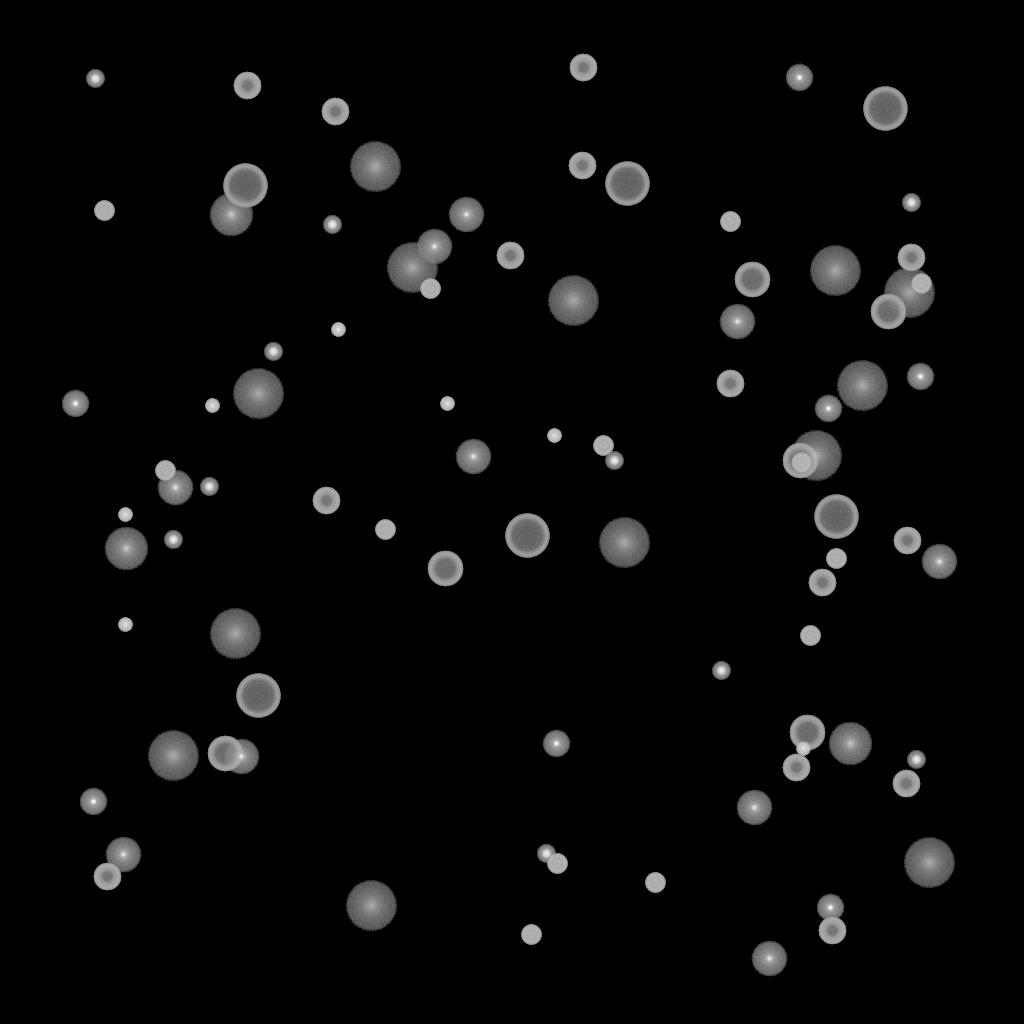depth:-10: (814, 395, 842, 423), (61, 390, 89, 418), (906, 363, 934, 391), (542, 730, 570, 758), (816, 894, 844, 922), (79, 788, 107, 816), (785, 64, 813, 92)
depth:-20: (907, 751, 925, 769), (605, 452, 623, 470), (86, 70, 104, 88), (164, 531, 182, 549), (323, 216, 341, 234), (712, 662, 730, 680), (902, 194, 920, 212), (264, 343, 282, 361), (537, 845, 555, 863), (200, 478, 218, 496)
depth:-30: (118, 618, 132, 632), (331, 323, 345, 337), (440, 397, 454, 411), (205, 399, 219, 413), (547, 429, 561, 443), (796, 742, 810, 756), (118, 508, 132, 522)
depth:-40: (155, 461, 175, 481), (547, 854, 567, 874), (911, 274, 931, 294), (420, 279, 440, 299), (645, 873, 665, 893), (800, 626, 820, 646), (521, 925, 541, 945), (720, 212, 740, 232), (791, 453, 811, 473), (94, 201, 114, 221), (593, 436, 613, 456), (375, 520, 395, 540), (826, 549, 846, 569)
depth:-50: (897, 244, 925, 272), (93, 863, 121, 891), (818, 917, 846, 945), (892, 770, 920, 798), (496, 242, 524, 270), (568, 152, 596, 180), (321, 98, 349, 126), (233, 72, 261, 100), (808, 569, 836, 597), (312, 487, 340, 515), (782, 754, 810, 782), (716, 370, 744, 398), (893, 527, 921, 555), (569, 54, 597, 82)
depth:-60: (870, 294, 906, 330), (427, 551, 463, 587), (734, 262, 770, 298), (782, 443, 818, 479), (207, 736, 243, 772), (789, 715, 825, 751)
depth:-70: (863, 87, 907, 131), (236, 674, 280, 718), (605, 162, 649, 206), (814, 495, 858, 539), (505, 514, 549, 558), (223, 164, 267, 208)
depth:0: (921, 544, 957, 580), (105, 837, 141, 873), (751, 941, 787, 977), (157, 470, 193, 506), (736, 790, 772, 826), (416, 229, 452, 265), (455, 439, 491, 475), (448, 197, 484, 233), (719, 304, 755, 340), (223, 739, 259, 775)
depth:10: (209, 193, 253, 237), (104, 527, 148, 571), (828, 722, 872, 766)
depth:20: (836, 361, 888, 411), (147, 731, 199, 781), (209, 609, 261, 659), (345, 881, 397, 931), (386, 243, 438, 293), (883, 268, 935, 318), (903, 838, 955, 888), (547, 276, 599, 326), (232, 369, 284, 419), (598, 518, 650, 568), (349, 142, 401, 192), (790, 431, 842, 481), (809, 246, 861, 296)
